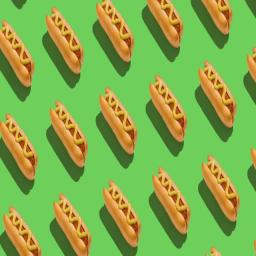hotdog: (50, 95, 94, 171), (200, 147, 242, 224), (99, 80, 139, 158), (45, 1, 85, 76), (197, 55, 238, 128), (147, 71, 188, 143), (102, 178, 144, 248), (152, 162, 192, 234), (0, 109, 39, 182), (94, 1, 136, 67), (0, 13, 35, 90), (51, 189, 91, 256), (2, 199, 43, 256), (145, 0, 184, 49)
